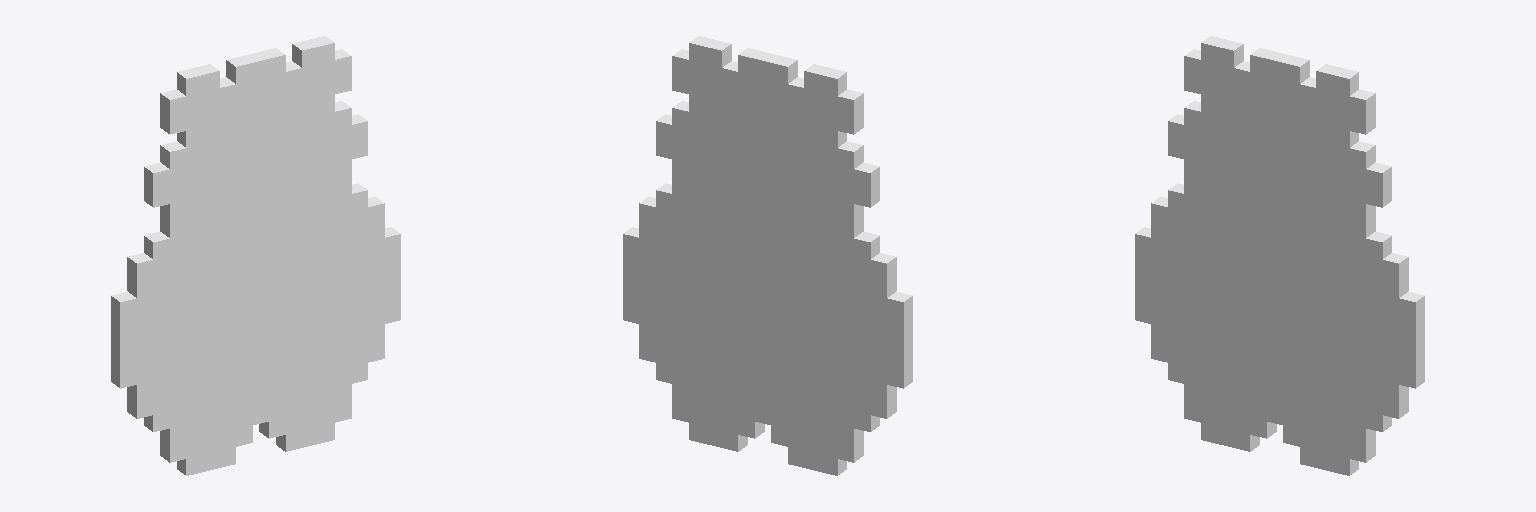
File: walk1bear.obj
3 views of the same model, side by side, from view 1: azimuth 30°, elevation 25°; view 2: azimuth 150°, elevation 25°; view 3: azimuth 330°, elevation 25° (orthographic).
Visible parts, largest first — view 1: object 1; view 2: object 1; view 3: object 1.
Part boxes in pixels (x1,y1,x2,y2): object 1: (111, 36, 400, 475); object 1: (623, 36, 912, 475); object 1: (1135, 36, 1424, 475).
Size of the model in its own units: 1.7 by 2.3 by 0.1.